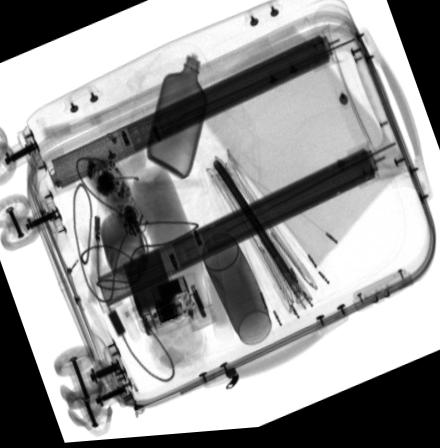Powerbank: (119, 249, 184, 336)
